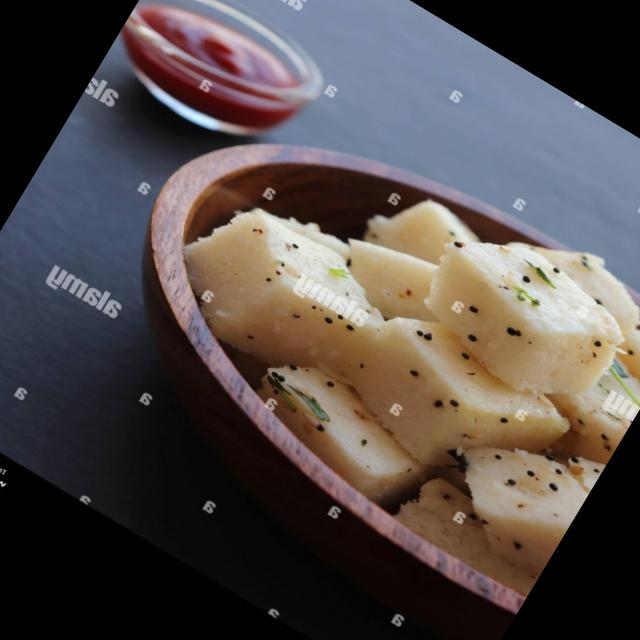dhokla: (117, 81, 640, 608)
